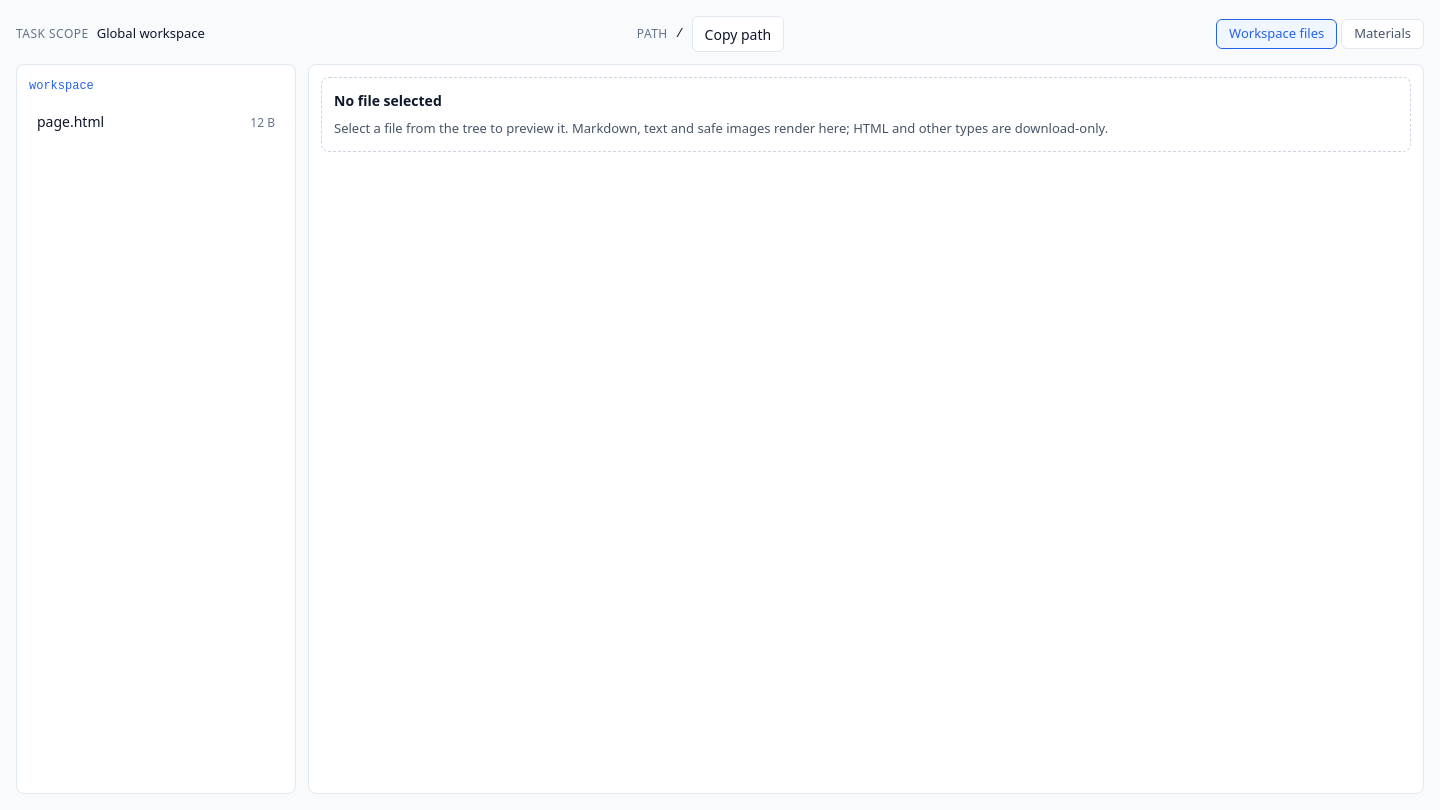
Test: FilesPanel › never renders HTML and offers it for download only
What coordinates should you click on to do the following:
click the button titled "page.html"
I would click on:
 (156, 122)
Its box is x1=29 y1=103 x2=283 y2=140.
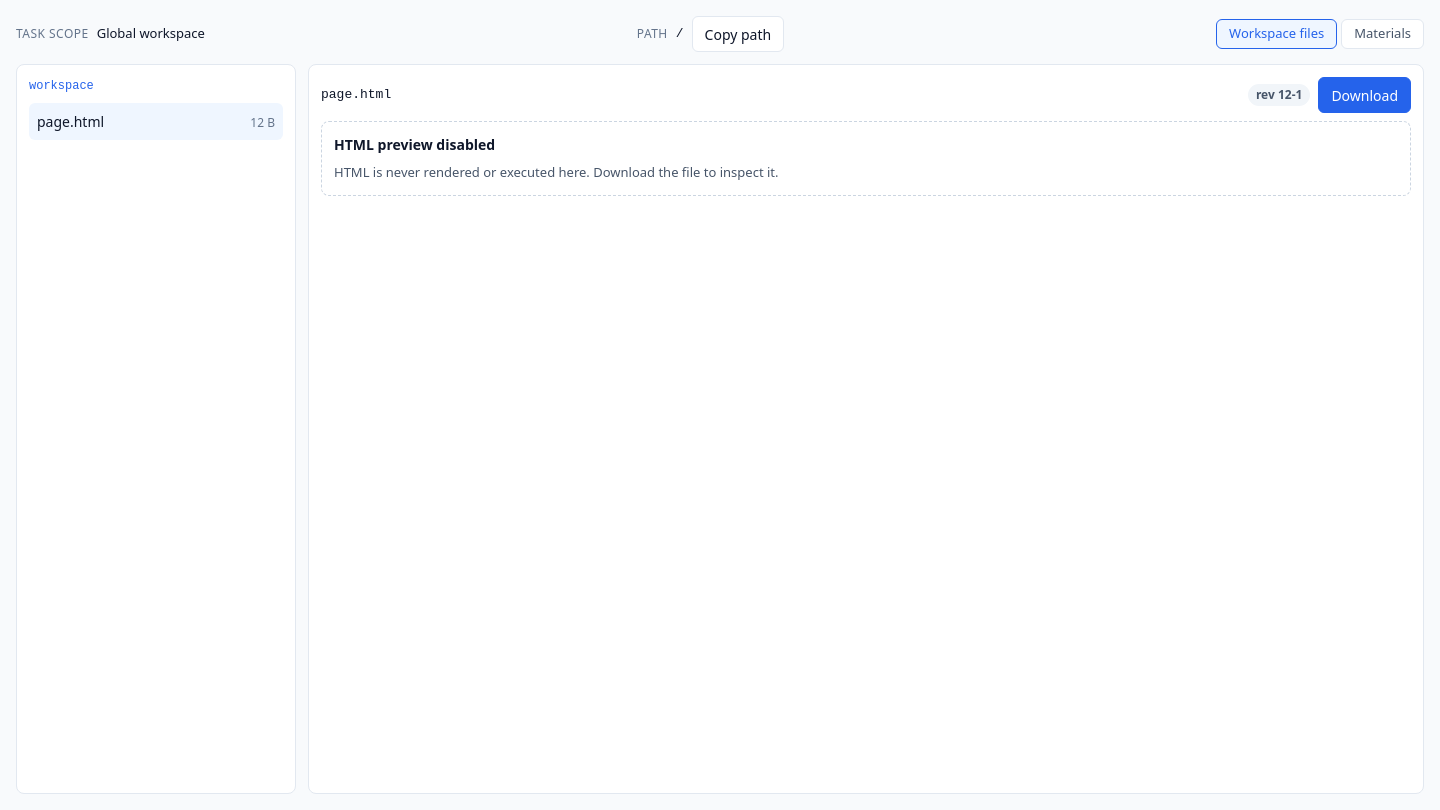
Expected: the text "HTML preview disabled" is shown, x1=334 y1=134 x2=495 y2=155
